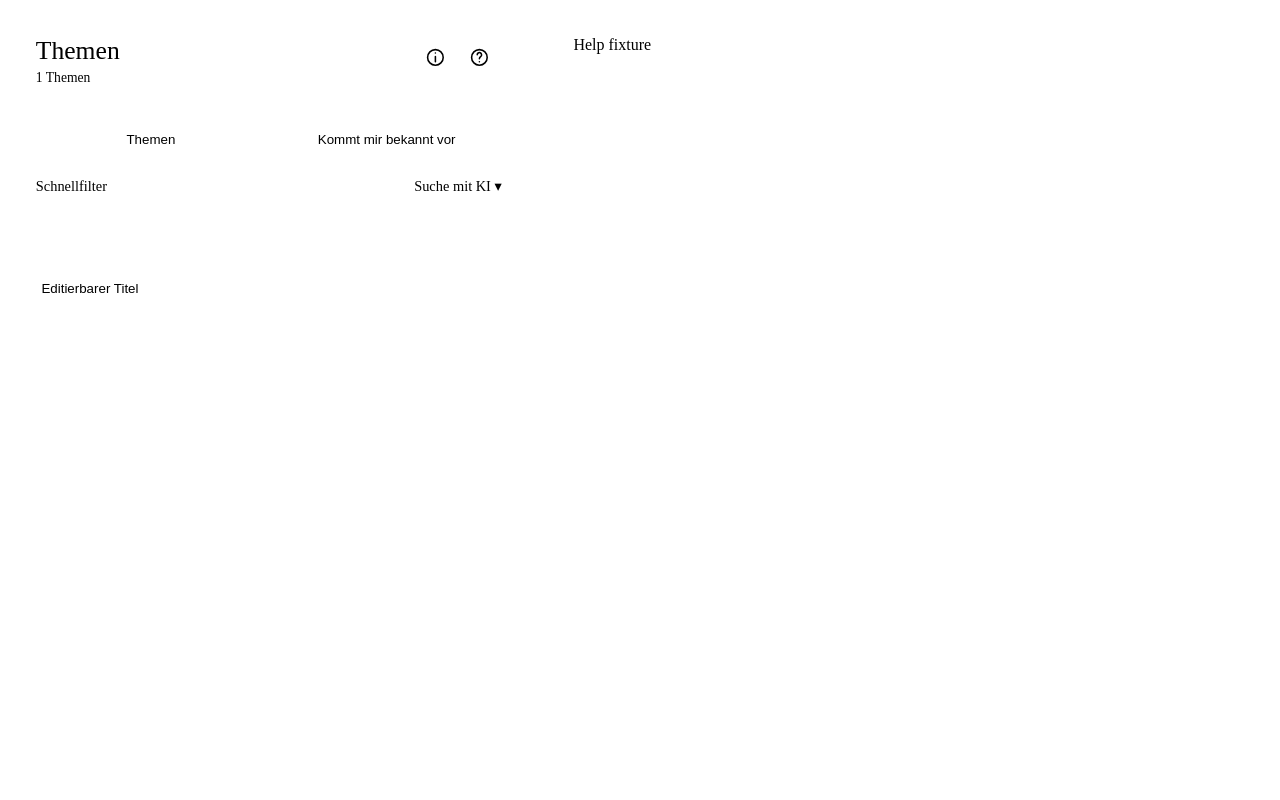
Scenario: TopicBrowser › shows editorial status active in German
Click the button "Editierbarer Titel".
click(90, 289)  # box [36, 261, 502, 317]
(page scrolled)
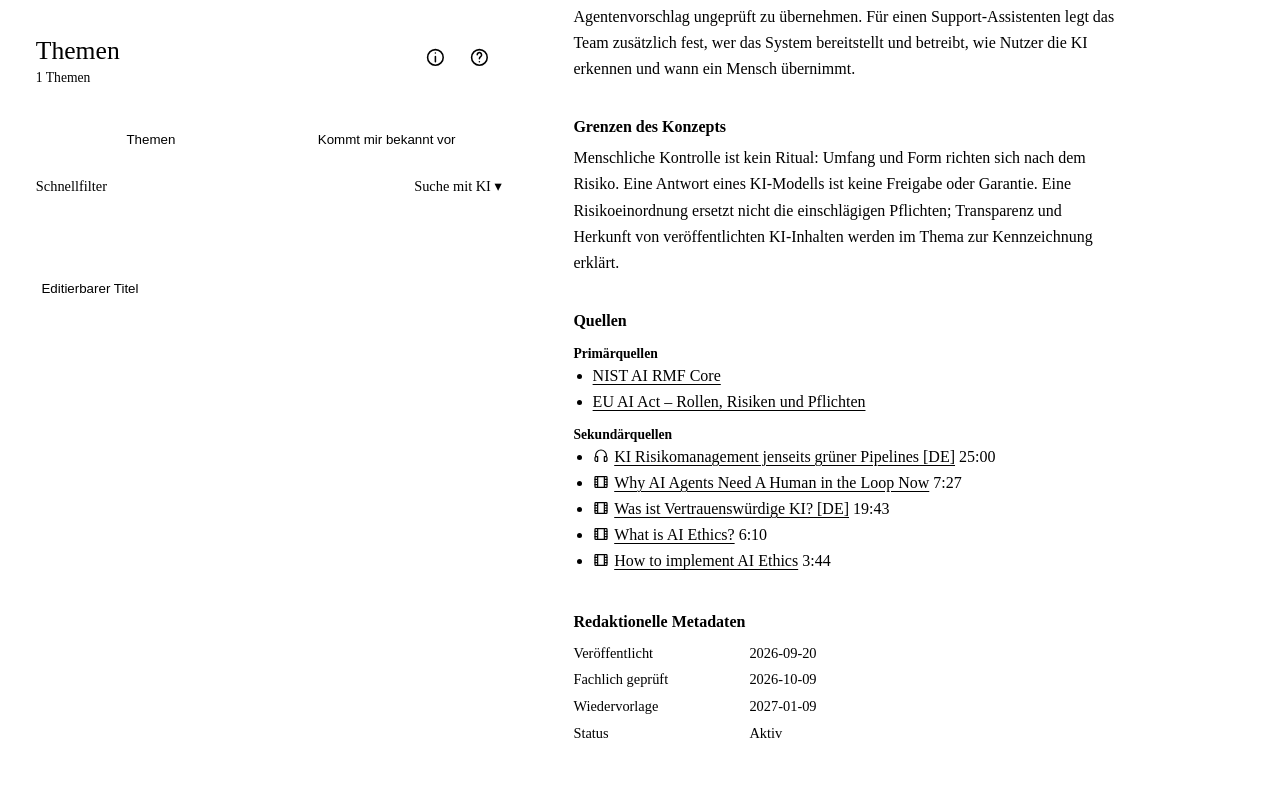
Check: the text "Aktiv" is shown, box [749, 725, 782, 742]
